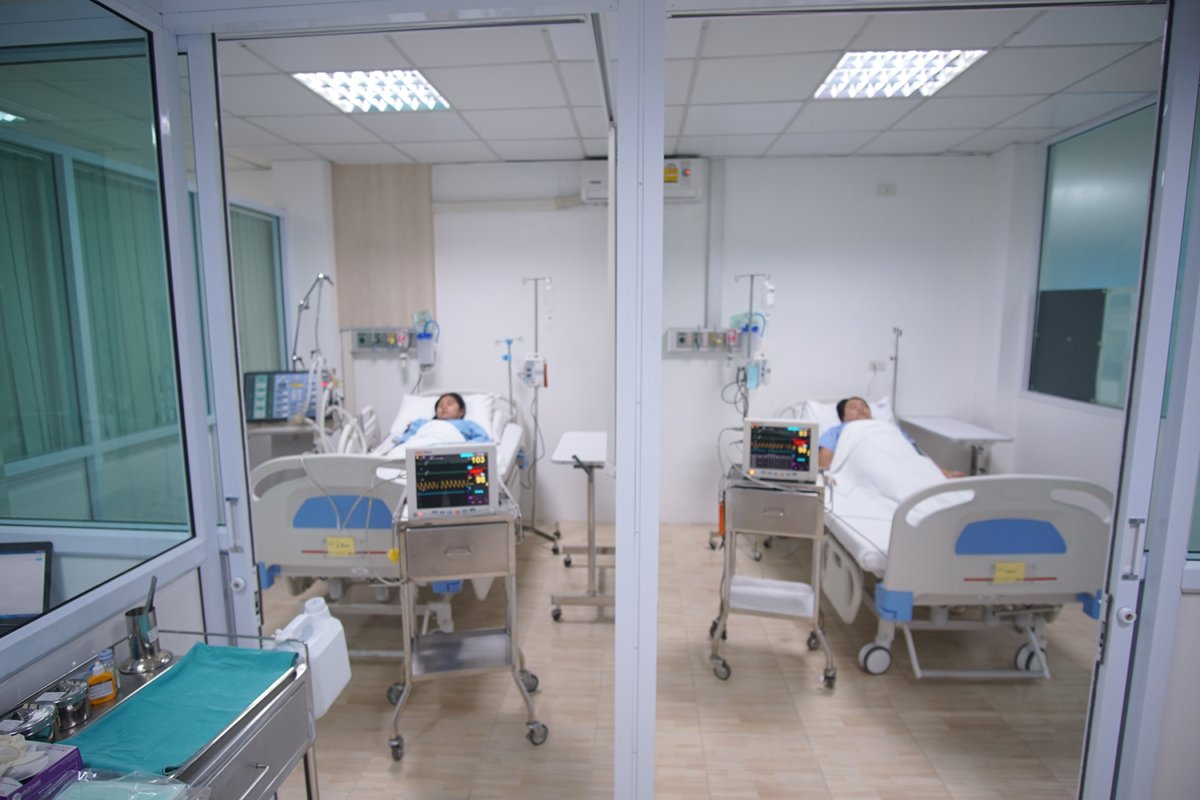bedrail: (815, 534, 864, 625), (337, 405, 380, 454)
bedside_monitor: (405, 443, 499, 520), (745, 419, 824, 483), (243, 371, 335, 422)
computer: (1, 540, 52, 624)
door_handle: (221, 485, 247, 549), (1121, 517, 1147, 581)
foot_board: (857, 475, 1117, 683), (247, 452, 514, 591)
handle: (232, 762, 276, 800), (759, 499, 784, 518)
hospital_bed: (733, 374, 1077, 655), (249, 393, 527, 670)
infusion_pump: (521, 359, 548, 388), (744, 356, 766, 389)
iv_pole: (527, 279, 547, 528), (737, 275, 767, 418), (885, 313, 908, 421), (499, 334, 521, 420)
overbed_table: (558, 426, 617, 622), (899, 415, 1015, 476)
patient: (819, 397, 967, 486), (380, 393, 488, 455)
utility_cart: (1, 625, 320, 800), (386, 496, 549, 763), (698, 456, 828, 680)
